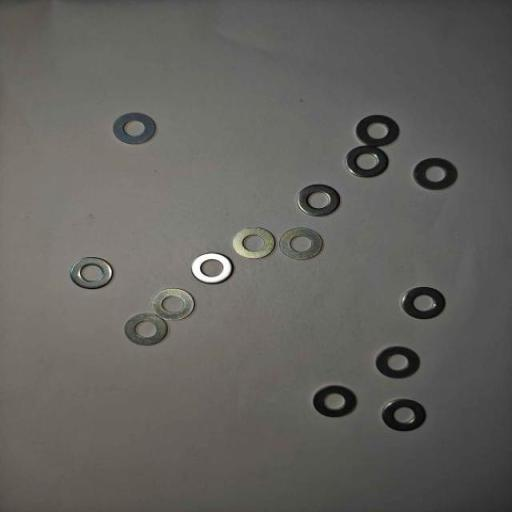Washer: (381, 397, 428, 433), (374, 345, 422, 380), (412, 156, 459, 191), (279, 226, 325, 261), (123, 312, 169, 347), (401, 285, 447, 320), (312, 384, 358, 419), (231, 226, 278, 260), (112, 111, 157, 145), (355, 114, 400, 148), (345, 144, 390, 178), (297, 183, 342, 217), (69, 256, 114, 290), (150, 287, 196, 320), (190, 251, 234, 285)
